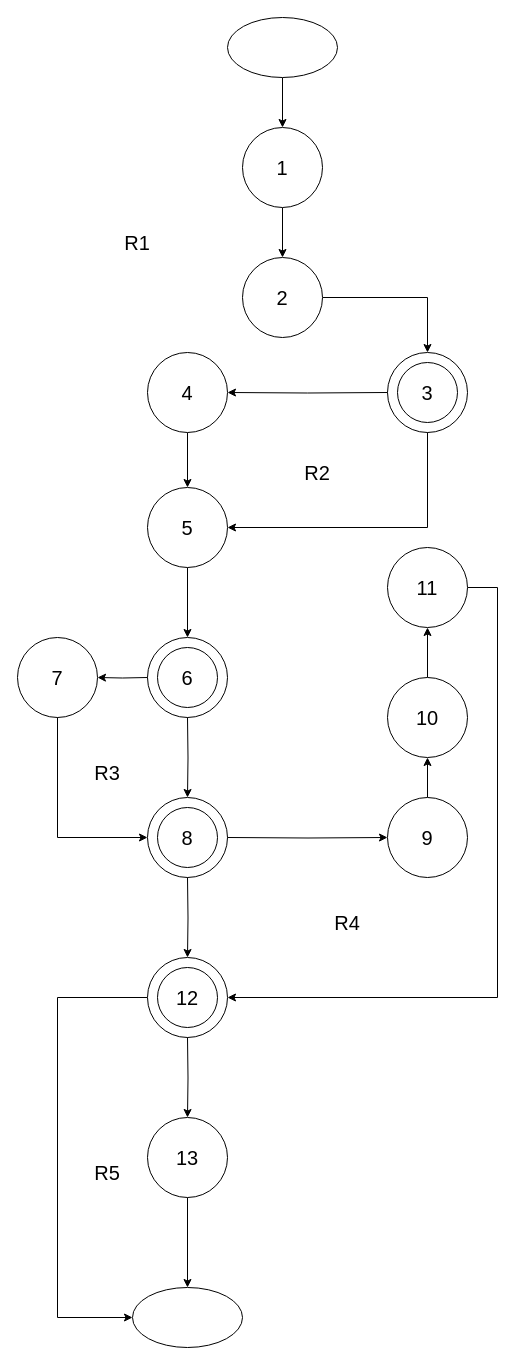
The diagram is 523 pixels wide and 1365 high, and some of its shapes have lost their labels. The box of each missing label's shape, as (x1, y1, x2, y2) in pixels:
FINISH: (132, 1286, 242, 1348)
START: (226, 16, 338, 78)
